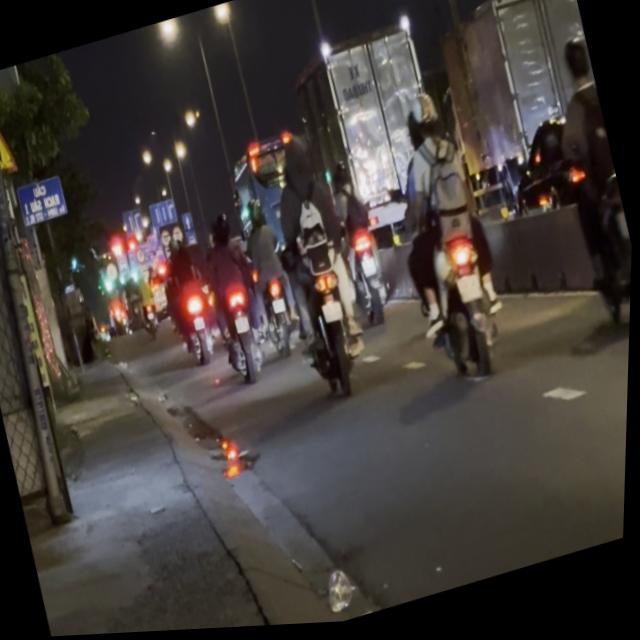helmet: (406, 92, 448, 153), (280, 137, 321, 196)
licenseplate: (366, 80, 530, 398), (249, 117, 384, 408), (526, 31, 639, 352)
motorcyclist: (559, 36, 596, 92)
nohelmet: (456, 275, 486, 309), (324, 302, 346, 326)
